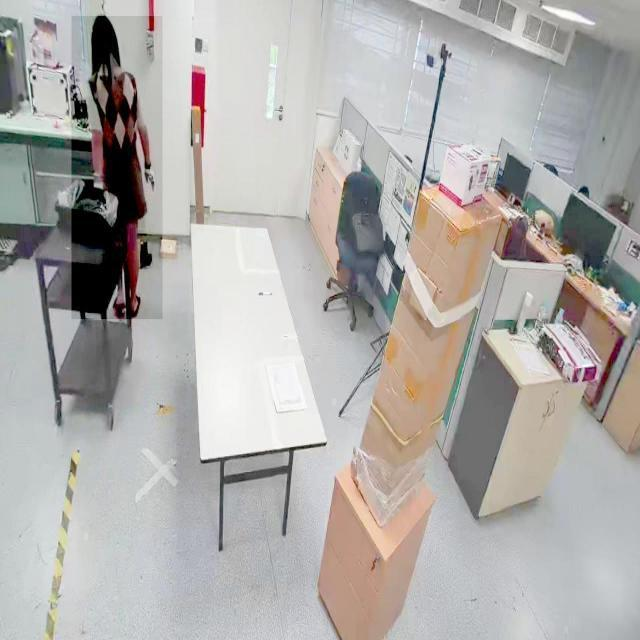gloves: (144, 164, 156, 190)
